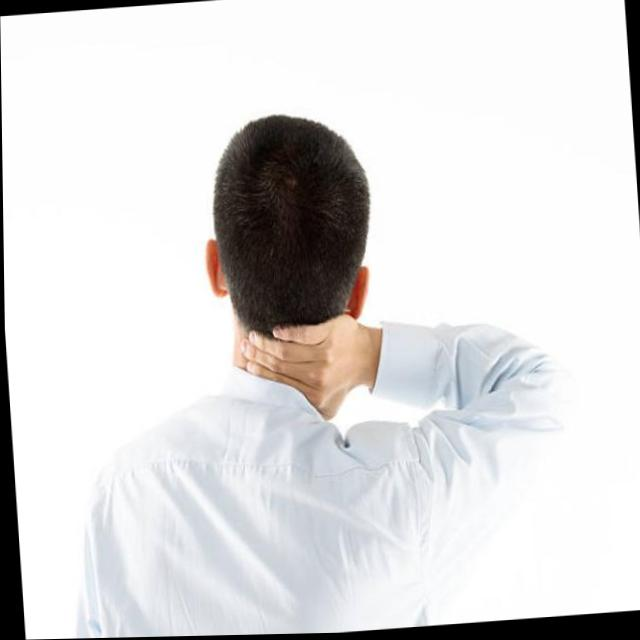no helmet: (197, 109, 382, 372)
